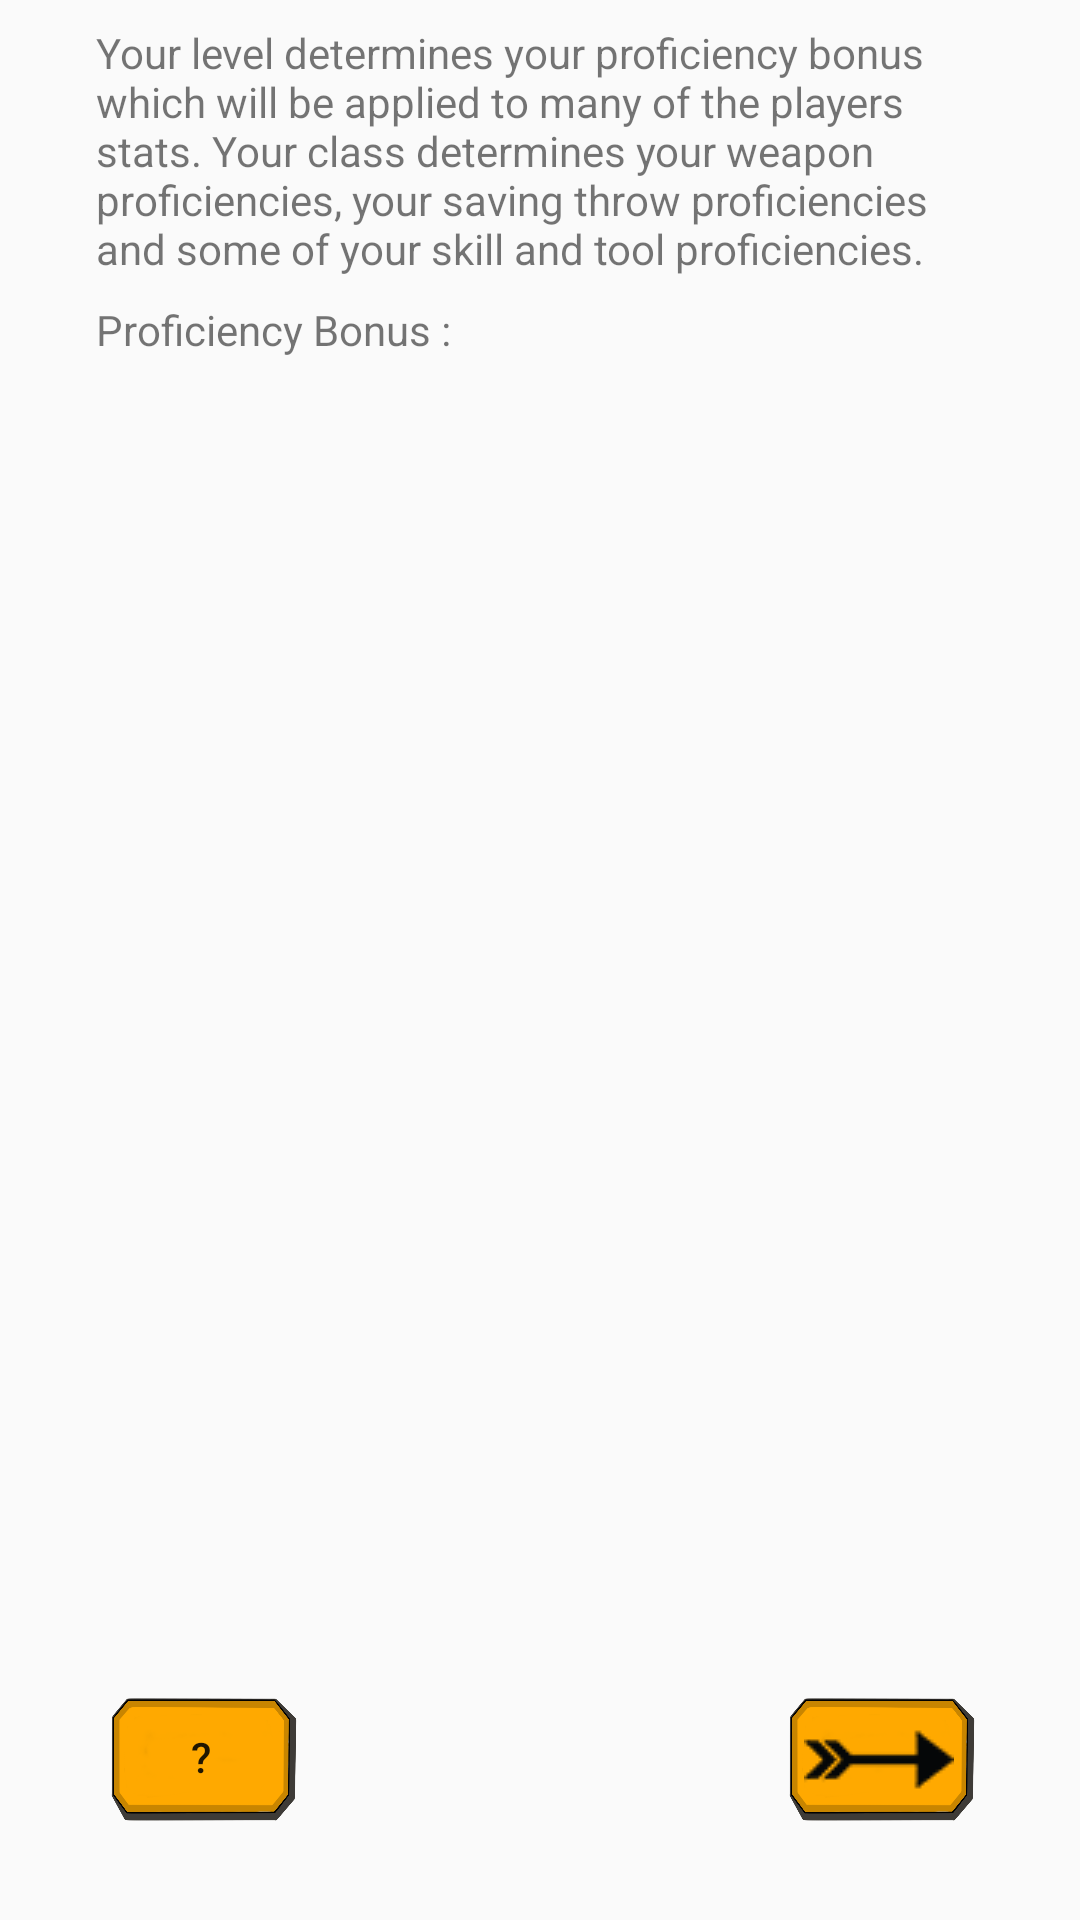

Icon bounding boxes for this 1080px x 1920px phone screenshot, format (x1, y1, x2, y2):
next arrow: (790, 1698, 974, 1821)
